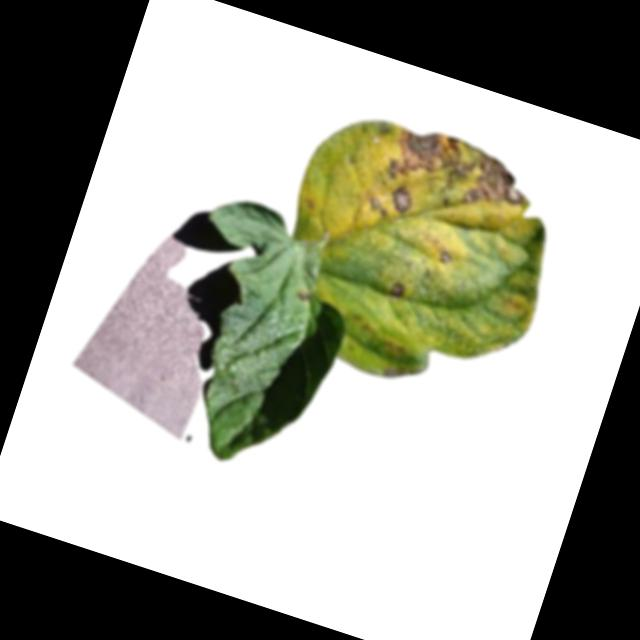Early_blight: (379, 117, 540, 221), (364, 193, 394, 219), (390, 181, 414, 207), (387, 278, 406, 297), (294, 287, 312, 304), (439, 247, 454, 263)
